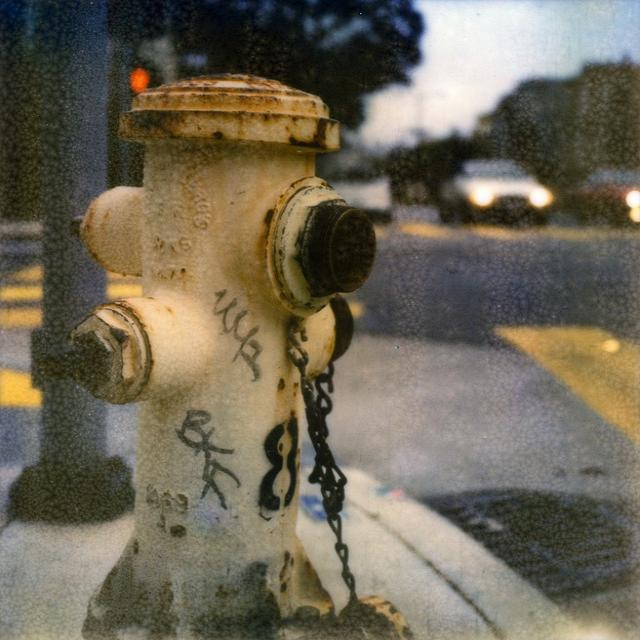car: (435, 155, 553, 220), (565, 165, 637, 228)
fire_hydrant: (41, 66, 414, 637)
